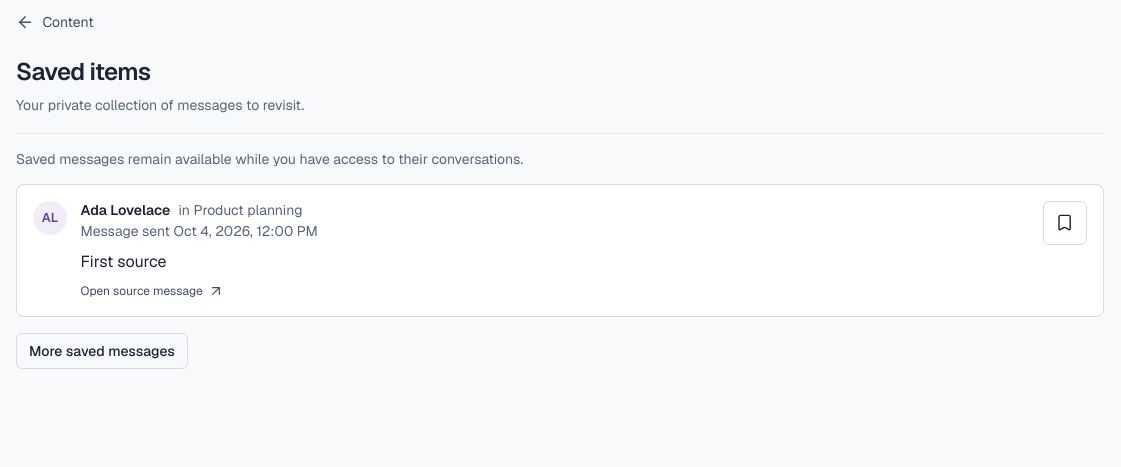
Test: saved item pagination and authorization recovery › appends the server cursor page and removes through the real saved command
Expected: the link "First source Open source message" is shown, x1=81 y1=252 x2=224 y2=300
Click the button "More saved messages": (102, 352) x1=16 y1=334 x2=188 y2=370
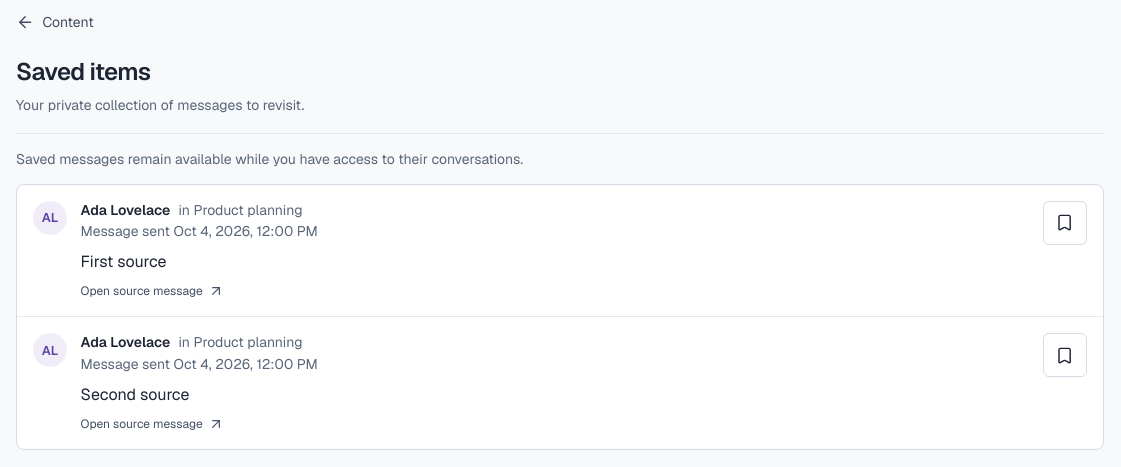
Expected: the link "First source Open source message" is shown, x1=81 y1=252 x2=224 y2=300
Expected: the link "Second source Open source message" is shown, x1=81 y1=384 x2=224 y2=432
Click the 1st button named "Remove saved message 1": (1065, 223) x1=1043 y1=201 x2=1087 y2=245
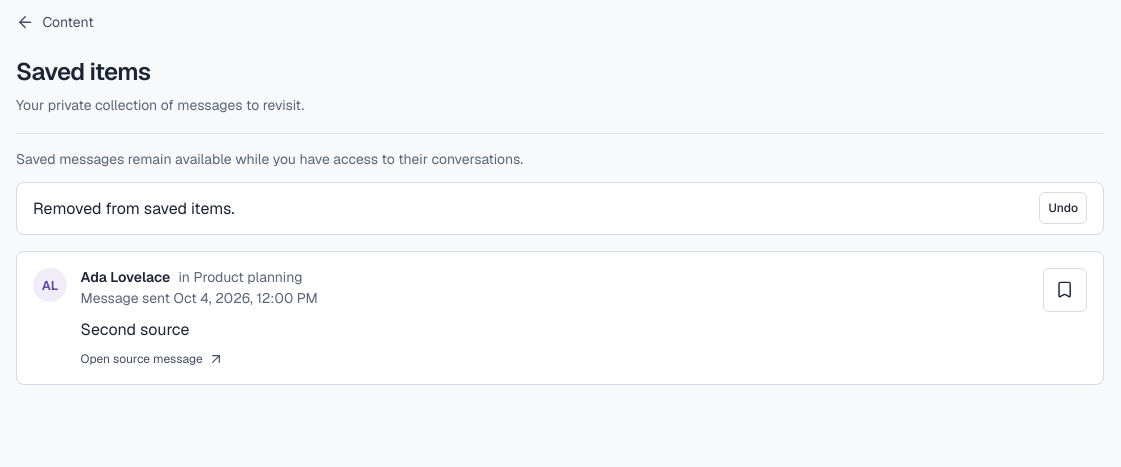
Expected: the link "First source" is gone
